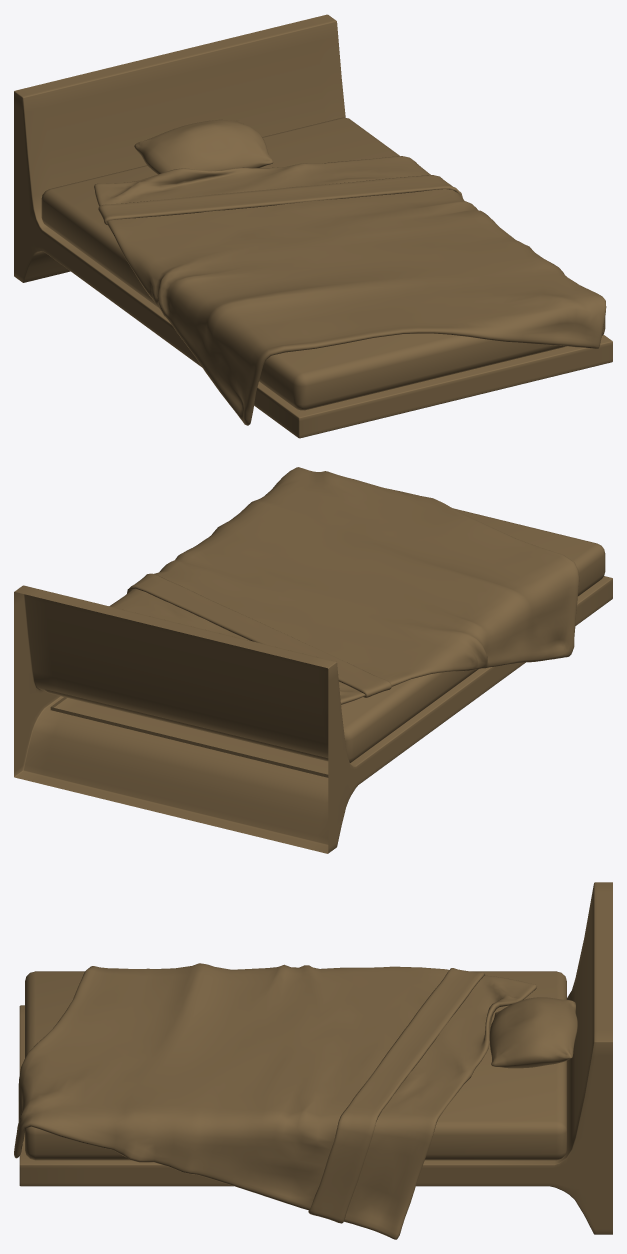
Rendered from bed.FBX.
3 renders of one model, top to bottom at view 1: azimuth 30°, elevation 25°; view 2: azimuth 150°, elevation 25°; view 3: azimuth 270°, elevation 25°, orthographic. The views are drawn at different scales.
Visible parts, largest first — view 1: beizi, Plane004, ChamferBox001, zhentou2; view 2: Plane004, beizi, ChamferBox001; view 3: beizi, Plane004, ChamferBox001, zhentou2.
Part boxes in pixels (x1,y1,x2,y2): beizi: [94, 156, 606, 425]; Plane004: [14, 14, 612, 438]; ChamferBox001: [41, 117, 605, 410]; zhentou2: [134, 119, 273, 174]; Plane004: [14, 576, 612, 853]; beizi: [109, 467, 579, 704]; ChamferBox001: [44, 508, 605, 762]; beizi: [14, 963, 536, 1239]; Plane004: [19, 882, 612, 1234]; ChamferBox001: [25, 971, 566, 1160]; zhentou2: [489, 997, 577, 1068].
Bounding box in the file's own units: 175 × 91.5 × 257.
